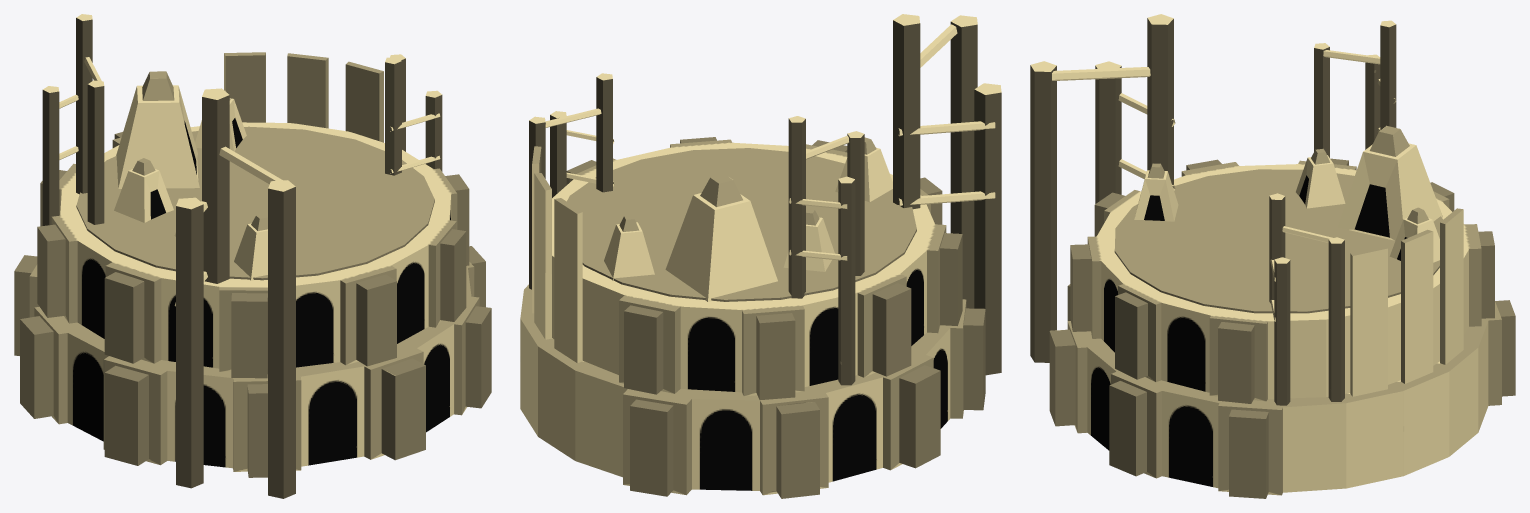
File: Tower_LVL1 (1).fbx
3 renders of one model, left to right at view 1: azimuth 30°, elevation 25°; view 2: azimuth 150°, elevation 25°; view 3: azimuth 270°, elevation 25°, orthographic. The views are drawn at different scales.
Visible parts, largest first — view 1: Cylinder.001; view 2: Cylinder.001; view 3: Cylinder.001.
Boxes of the visible parts, x1,y1,x2,y2 form: Cylinder.001: (14,14,491,498); Cylinder.001: (520,14,1001,498); Cylinder.001: (1030,14,1515,498).
Size of the model in its own units: 674 by 547 by 713.
Materials: 3 (3 with a texture image).
